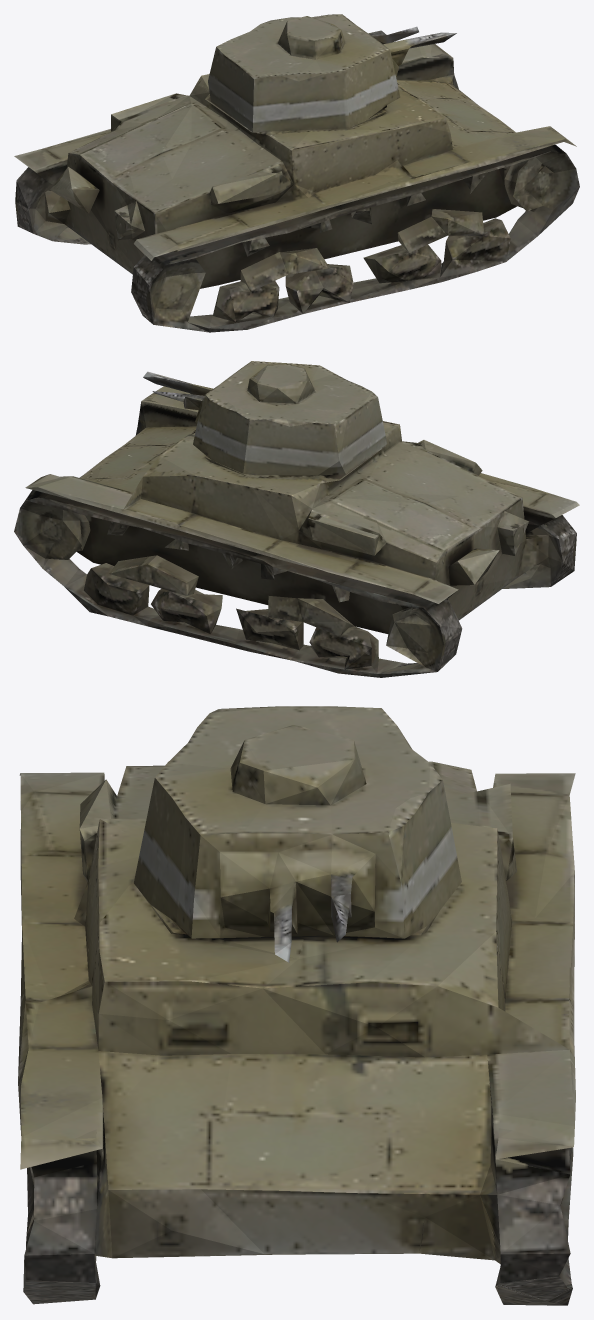
File: both.obj
3 renders of one model, top to bottom at view 1: azimuth 30°, elevation 25°; view 2: azimuth 150°, elevation 25°; view 3: azimuth 270°, elevation 25°, orthographic. The views are drawn at different scales.
Parts seen in each view (by area): view 1: turret.obj; view 2: turret.obj; view 3: turret.obj.
Part boxes in pixels (x1,y1,x2,y2): turret.obj: (14,14,579,332); turret.obj: (14,361,579,677); turret.obj: (18,706,575,1305).
Size of the model in its own units: 0.9962 by 0.4815 by 0.5575.
Materials: 1 (1 with a texture image).
